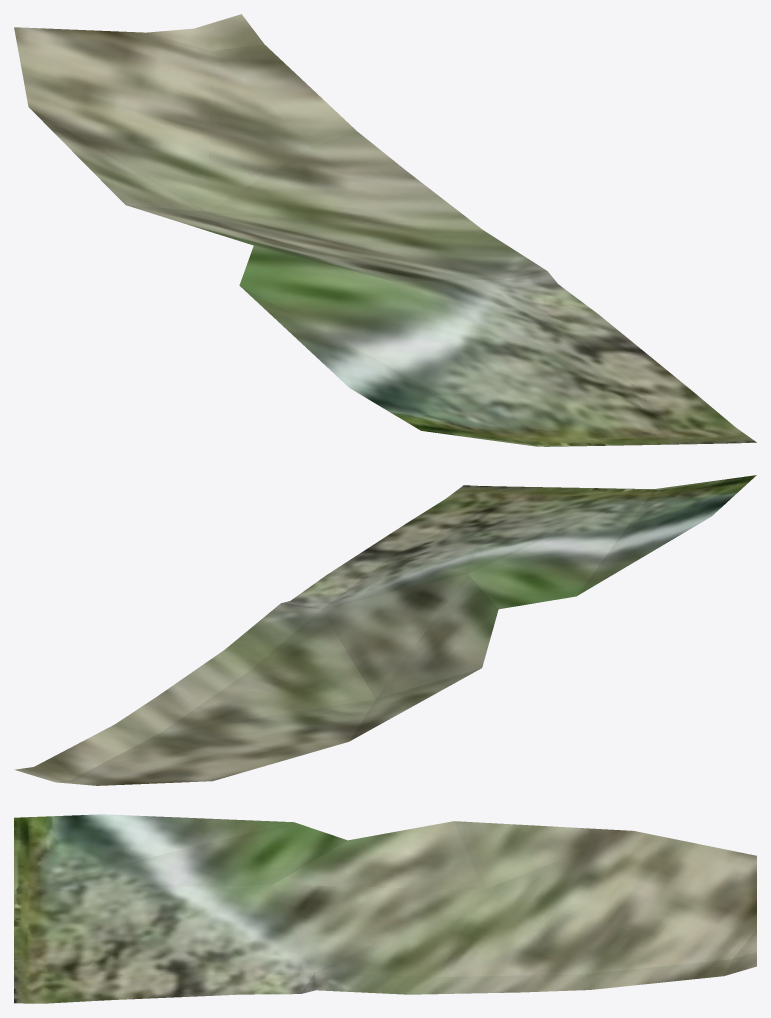
The picture shows the model from 3 angles, top to bottom: view 1: azimuth 30°, elevation 25°; view 2: azimuth 150°, elevation 25°; view 3: azimuth 270°, elevation 25°; orthographic projection. The views are drawn at different scales.
Size of the model in its own units: 0.6487 by 0.1686 by 1.67.
1 material, 1 textured.
